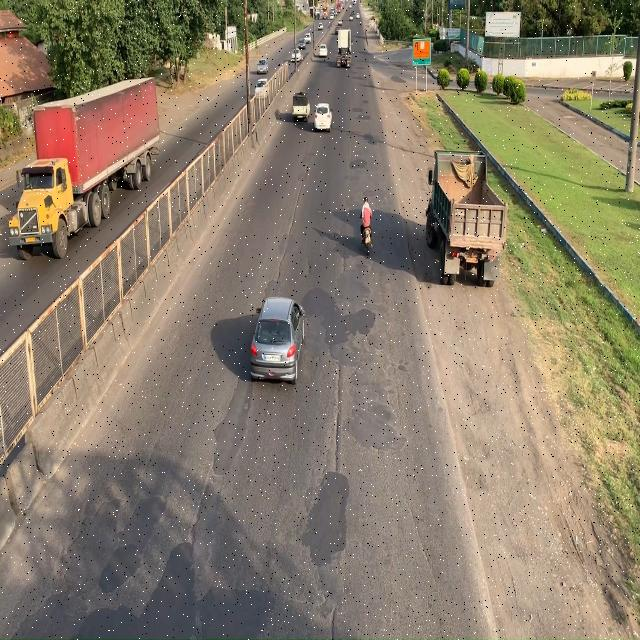Truck: (9, 90, 102, 258), (427, 150, 506, 290)
cars: (250, 293, 305, 387), (292, 89, 311, 127), (314, 98, 333, 133)
